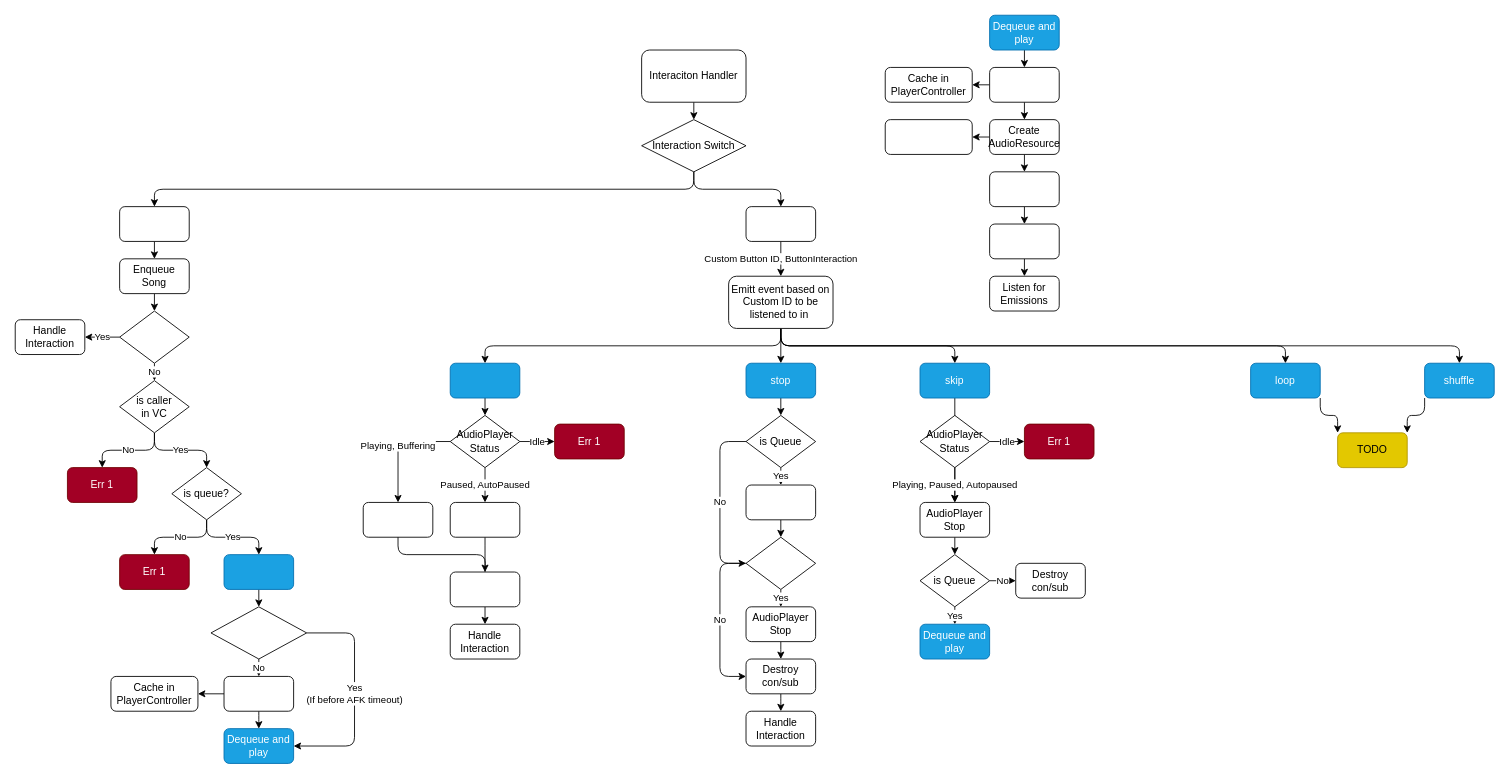
Some shapes in this 1509 by 779 pixel diagram are drawn without their labels. Here are the shapes that lost their labels. From the top down, the box of each, then its label:
(989, 67, 1059, 102): Dequeue
(884, 119, 972, 154): Emmit Change (guildID, Song)
(989, 171, 1059, 207): AudioPlayer Play
(119, 206, 189, 241): Message Interaction
(745, 206, 816, 241): Button Interaction
(989, 223, 1059, 259): Reply to Interaction
(119, 310, 189, 363): is AudioPlayer Playing?
(449, 362, 520, 398): togglePlay
(362, 502, 433, 537): Pause
(449, 502, 520, 537): Resume
(745, 484, 816, 520): Destroy Queue
(223, 554, 294, 589): Init Play
(745, 536, 816, 589): is Playing
(449, 571, 520, 607): Emmit Change
(210, 606, 307, 659): Does con/sub exist?
(223, 676, 294, 711): Create con/sub
